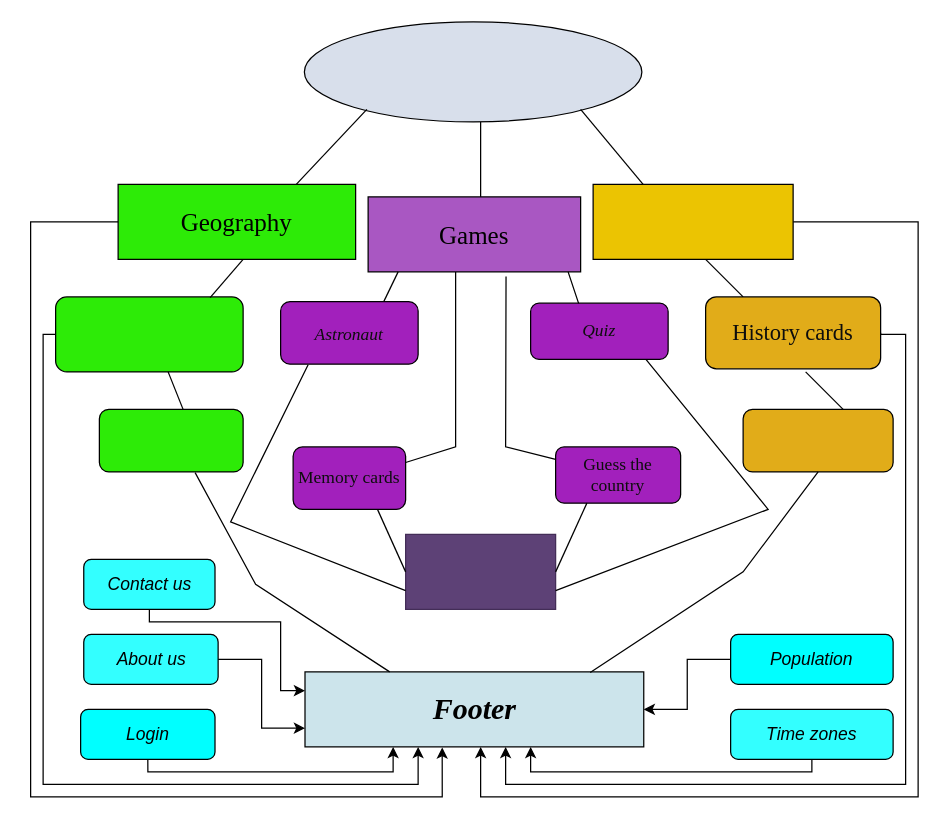
This 950x829 diagram has some shape labels left out. The centre of each missing label's shape, as x and y in pixels:
"Country cards" belongs at (148,334).
"Game over screen" belongs at (480,571).
"History" belongs at (692,221).
"Home page" belongs at (472,71).
"Maps and diagrames" belongs at (170,440).
"Timelines and diagrames" belongs at (817,440).
